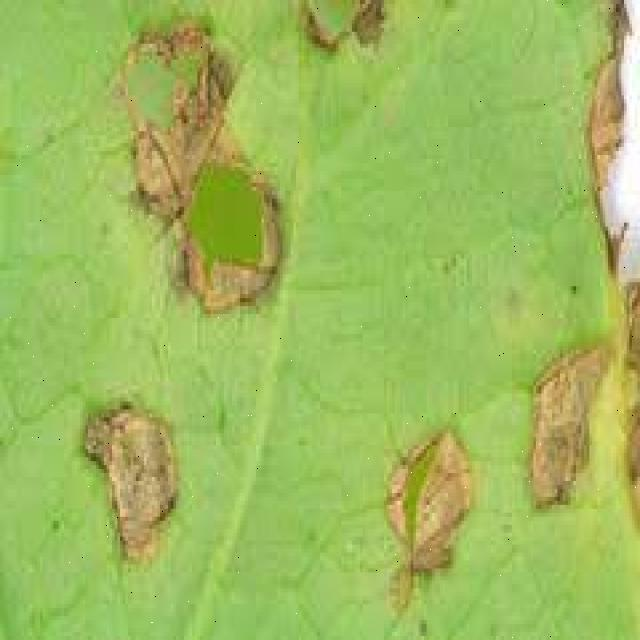Septoria_Blight: (41, 8, 305, 578)
